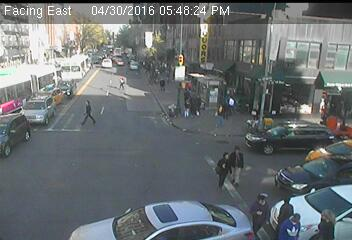neg: (137, 10, 173, 58), (28, 100, 62, 145), (33, 5, 66, 49), (300, 128, 331, 170), (75, 181, 104, 220), (280, 86, 309, 125), (134, 125, 162, 163), (66, 36, 92, 70), (306, 57, 330, 88), (102, 4, 121, 29), (6, 162, 24, 187), (116, 42, 130, 61), (49, 51, 61, 66), (200, 15, 211, 30), (87, 43, 94, 53), (102, 42, 106, 48)
pos: (219, 144, 255, 193), (244, 191, 279, 239), (208, 150, 241, 193), (273, 193, 300, 230), (75, 98, 99, 130), (316, 208, 339, 239), (212, 102, 231, 128), (285, 211, 304, 237), (223, 93, 241, 117), (183, 87, 197, 106), (157, 77, 170, 94), (181, 101, 194, 117), (117, 76, 128, 91)
